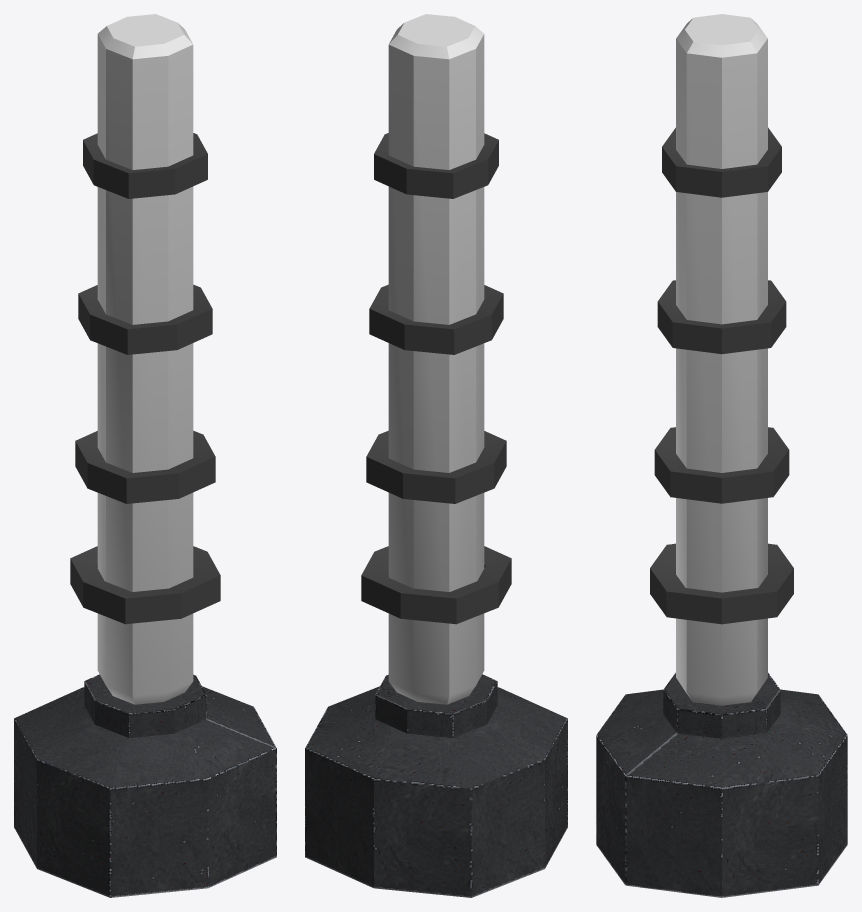
The model's file is SmallLamp.fbx.
The picture shows the model from 3 angles, left to right: view 1: azimuth 30°, elevation 25°; view 2: azimuth 150°, elevation 25°; view 3: azimuth 270°, elevation 25°; orthographic projection.
Visible parts, largest first — view 1: SmallLamp; view 2: SmallLamp; view 3: SmallLamp.
Part boxes in pixels (bbox=[...]): SmallLamp: bbox=[14, 14, 276, 897]; SmallLamp: bbox=[305, 14, 567, 897]; SmallLamp: bbox=[596, 14, 847, 897].
Bounding box in the file's own units: 39.99 × 143 × 39.99.
